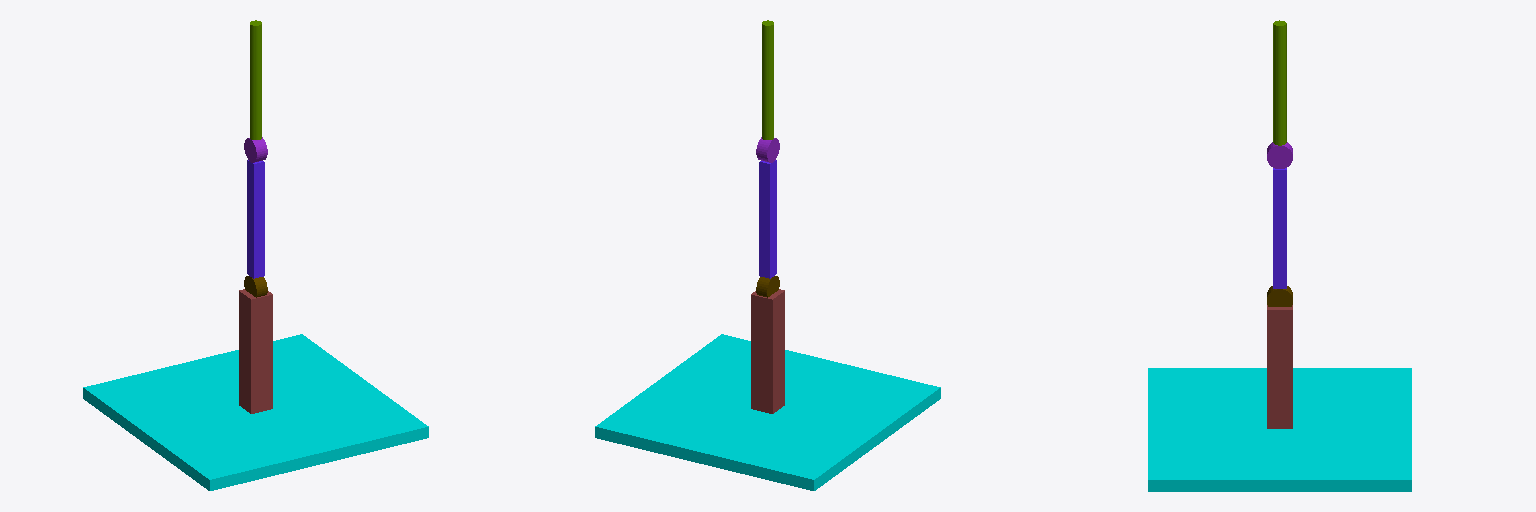
The robot description file, URDF, robot "pi_robot":
<?xml version="1.0"?>

<robot name="pi_robot">

	<!-- * * * Link Definitions * * * -->

 	<link name="base_link">
		<visual>
		    <origin xyz="0 0 0" rpy="0 0 0"/>
			<geometry>
				<box size="2 2 0.1"/>
			</geometry>
			<material name="Cyan1">
	       		<color rgba="0 0.9 0.9 1.0"/>
	     	</material>
		</visual>	
	</link>
	
 	<link name="ana_govde_link">
		<visual>
		    <origin xyz="0 0 0.05" rpy="0 0 0"/>
			<geometry>
				<box size="0.2 0.2 1"/>
			</geometry>
			<material name="Red">
	       		<color rgba="0.6 0.3 0.3 1.0"/>
	     	</material>
		</visual>	
	</link>
	
	 <link name="donme1_link">
		<visual>
		    <origin xyz="0 0 0" rpy="0 0 0"/>
			<geometry>
				<cylinder radius="0.1" length="0.1"/>
			</geometry>
			<material name="Red">
	       		<color rgba="0.4 0.3 0 1.0"/>
	     	</material>
		</visual>	
	</link>
	
	
	
	<link name="alt_kol_link">
		<visual>
		    <origin xyz="0 0 0" rpy="0 0 0"/>
			<geometry>
				<box size="0.1 0.1 1"/>
			</geometry>
			<material name="Blue">
	       		<color rgba="0.4 0.2 1 1.0"/>
	     	</material>
		</visual>	
	</link>
	
	<link name="donme2_link">
		<visual>
		    <origin xyz="0 0 0" rpy="0 0 0"/>
			<geometry>
				<cylinder radius="0.1" length="0.1"/>
			</geometry>
			<material name="Red">
	       		<color rgba="0.6 0.21 0.8 1.0"/>
	     	</material>
		</visual>	
	</link>
	

  	<link name="ust_kol_link">
		<visual>
			<origin xyz="0 0 0" rpy="0 0 1"/>
			<geometry>
				<cylinder radius="0.05" length="1"/>
			</geometry>
	     	<material name="Green">
				<color rgba="0.4 0.6 0 0"/>
			</material>
	   </visual>
	</link>

	
	<!-- * * * Joint Definitions * * * -->
	
	<joint name="ana_govde_joint" type="revolute">
    	<parent link="base_link"/>
    	<child link="ana_govde_link"/>
    	<origin xyz="0 0 0.5" rpy="0 0 0"/>
		<axis xyz="0 0 1"/>
		<limit lower="-3.1416" upper="3.1416" effort="10" velocity="3"/>
	</joint>
	
	<joint name="donme1_joint" type="revolute">
    	<parent link="ana_govde_link"/>
    	<child link="donme1_link"/>
    	<origin xyz="0 0 0.6" rpy="0 1.57 0"/>
		<axis xyz="0 0 1"/>
		<limit lower="-3.1416" upper="3.1416" effort="10" velocity="3"/>
	</joint>

	<joint name="alt_kol_joint" type="fixed">
    	<parent link="donme1_link"/>
    	<child link="alt_kol_link"/>
    	<origin xyz="-0.6 0 0" rpy="0 -1.57 0"/>	
	</joint>
	
	<joint name="donme2_joint" type="revolute">
    	<parent link="alt_kol_link"/>
    	<child link="donme2_link"/>
    	<origin xyz="0 0 0.6" rpy="0 1.57 0"/>
		<axis xyz="0 0 1"/>
		<limit lower="-3.1416" upper="3.1416" effort="10" velocity="3"/>
	</joint>

	<joint name="ust_kol_joint" type="fixed">
    	<parent link="donme2_link"/>
    	<child link="ust_kol_link"/>
    	<origin xyz="-0.6 0 0" rpy="0 -1.57 0"/>
	</joint>
	

</robot>

--- Facts derived from the render (not from the file) ---
The picture shows the robot from 3 angles, left to right: view 1: azimuth 30°, elevation 25°; view 2: azimuth 150°, elevation 25°; view 3: azimuth 270°, elevation 25°; orthographic projection.
Robot: pi_robot — 6 links, 5 joints (3 revolute, 2 fixed); root link base_link; default pose: all joints at 0.
Links seen in each view (by area): view 1: base_link, ana_govde_link, alt_kol_link, ust_kol_link; view 2: base_link, ana_govde_link, alt_kol_link, ust_kol_link; view 3: base_link, ana_govde_link, ust_kol_link, alt_kol_link, donme2_link.
Boxes of the visible links, left/top/right/bottom form: base_link: left=83, top=334, right=428, bottom=490; ana_govde_link: left=239, top=289, right=272, bottom=413; alt_kol_link: left=247, top=160, right=264, bottom=278; ust_kol_link: left=250, top=20, right=261, bottom=139; base_link: left=595, top=334, right=940, bottom=490; ana_govde_link: left=751, top=289, right=784, bottom=413; alt_kol_link: left=759, top=160, right=776, bottom=278; ust_kol_link: left=762, top=20, right=773, bottom=139; base_link: left=1148, top=368, right=1411, bottom=491; ana_govde_link: left=1267, top=305, right=1292, bottom=428; ust_kol_link: left=1273, top=20, right=1286, bottom=145; alt_kol_link: left=1273, top=168, right=1286, bottom=288; donme2_link: left=1267, top=142, right=1292, bottom=168.
Size in the robot's own frame: 2 by 2 by 3.45 metres.
Geometry: primitives only (box / cylinder / sphere), no mesh files.
